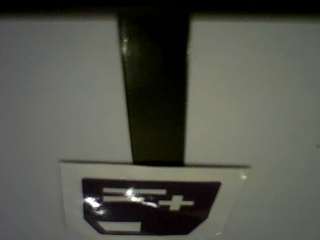Supply_Station: (79, 176, 222, 239)
